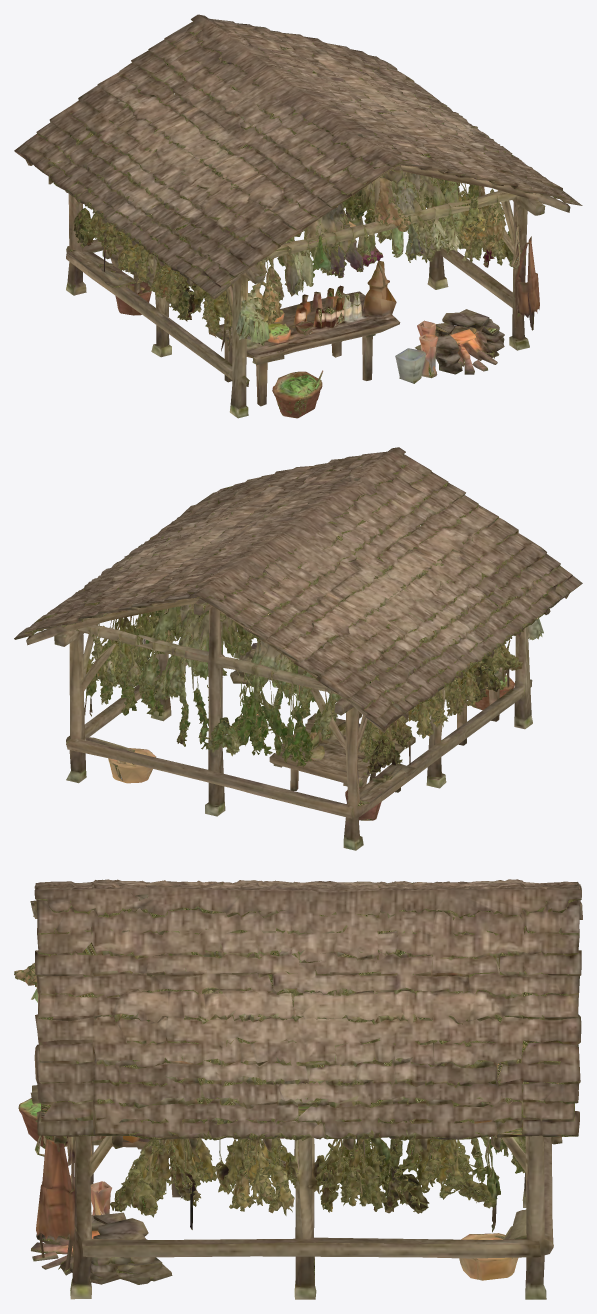
The model's file is bq_incense.hd.glb.
3 renders of one model, top to bottom at view 1: azimuth 30°, elevation 25°; view 2: azimuth 150°, elevation 25°; view 3: azimuth 270°, elevation 25°, orthographic. The views are drawn at different scales.
Parts seen in each view (by area): view 1: mesh_node; view 2: mesh_node; view 3: mesh_node.
Boxes of the visible parts, bbox=[...] form: mesh_node: bbox=[14, 14, 582, 418]; mesh_node: bbox=[14, 447, 582, 850]; mesh_node: bbox=[14, 879, 582, 1299].
Size of the model in its own units: 1.9 by 1.12 by 1.83.
Materials: 1 (1 with a texture image).
